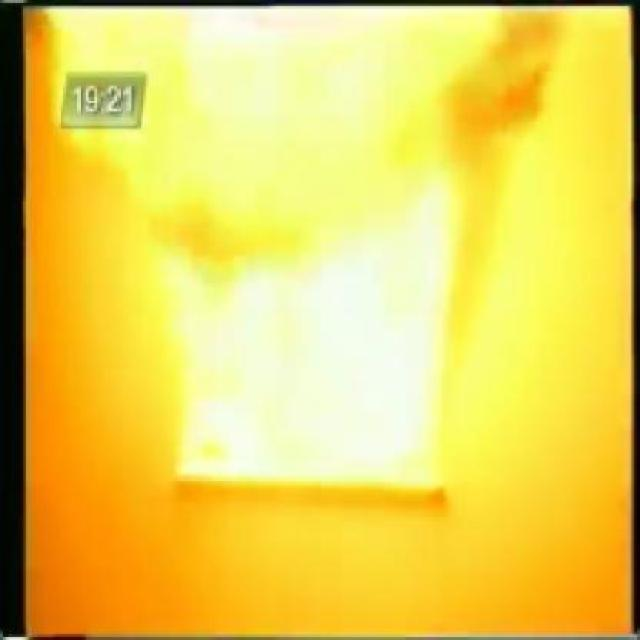smoke: (42, 7, 570, 496)
